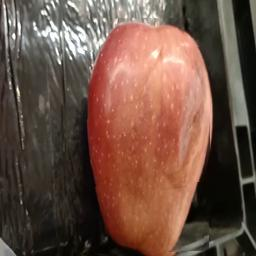Apple Semirotten: (83, 18, 212, 256)
